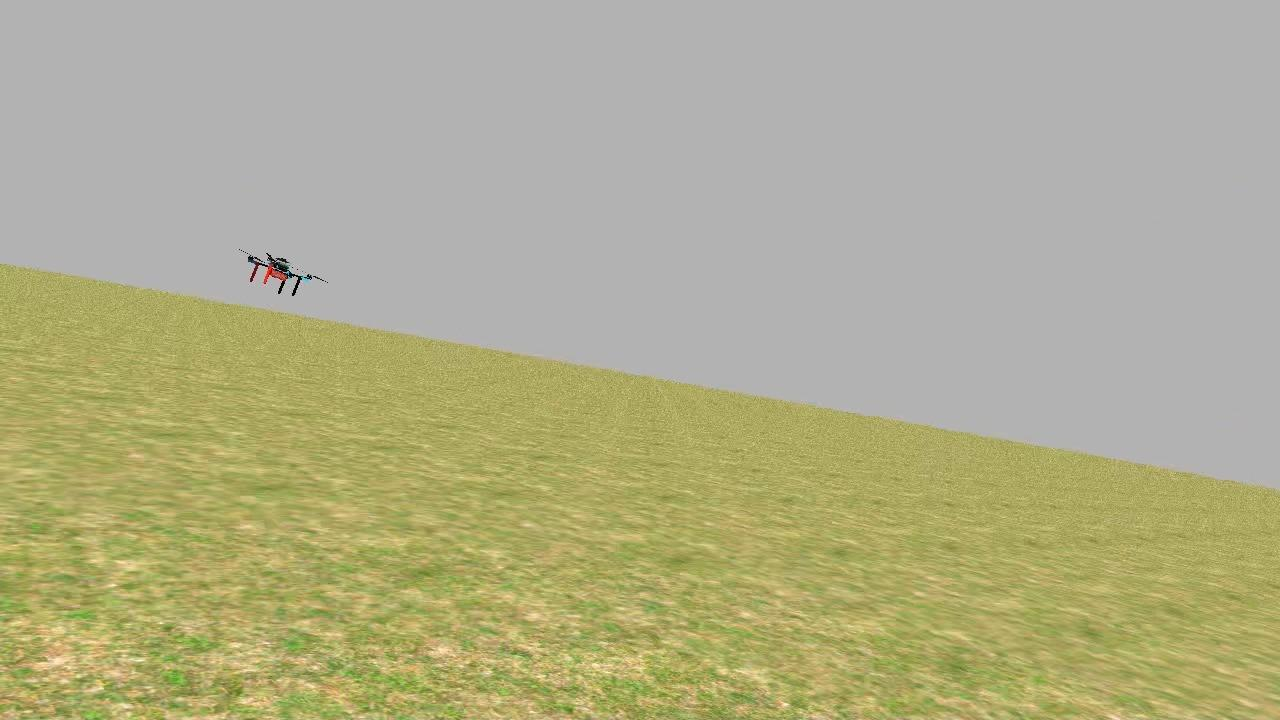UAV: (234, 250, 318, 303)
